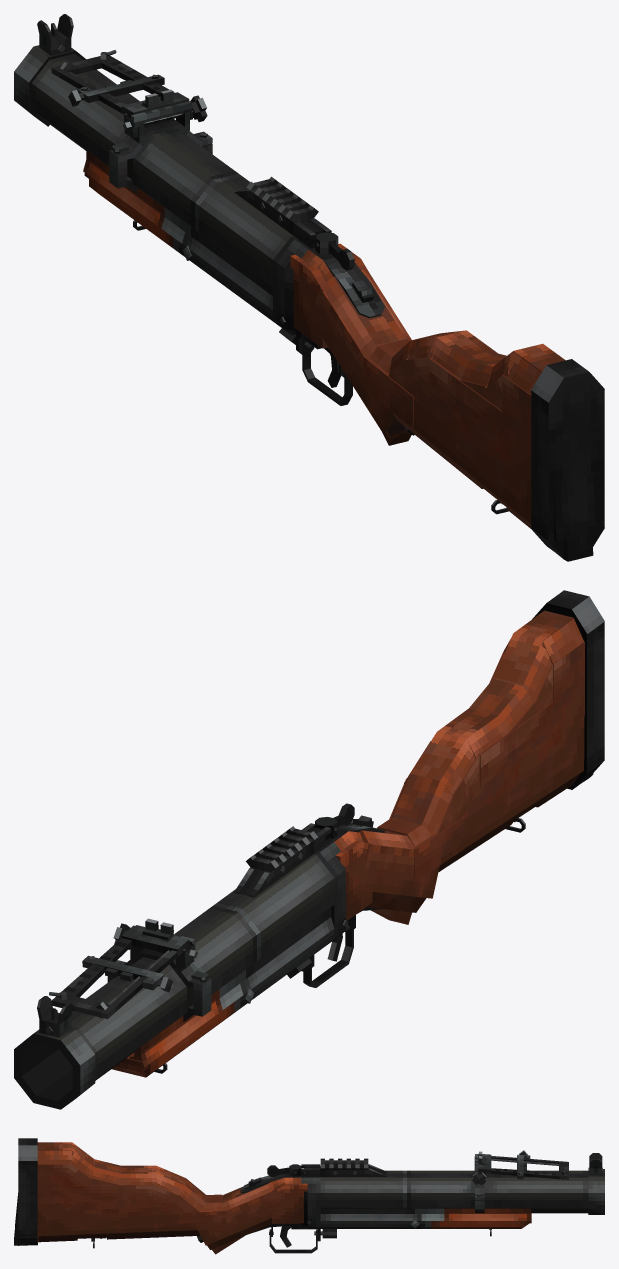
3 renders of one model, top to bottom at view 1: azimuth 30°, elevation 25°; view 2: azimuth 150°, elevation 25°; view 3: azimuth 270°, elevation 25°, orthographic. The views are drawn at different scales.
Visible parts, largest first — view 1: cube (×26); view 2: cube (×37); view 3: cube (×51).
Boxes of the visible parts, box(x1,y1,x2,y2) form: cube (×26): box(31, 53, 604, 541); cube (×37): box(16, 596, 604, 1106); cube (×51): box(18, 1142, 604, 1253).
Bounding box in the file's own units: 0.892 × 1.77 × 8.55.
1 material, 1 textured.
